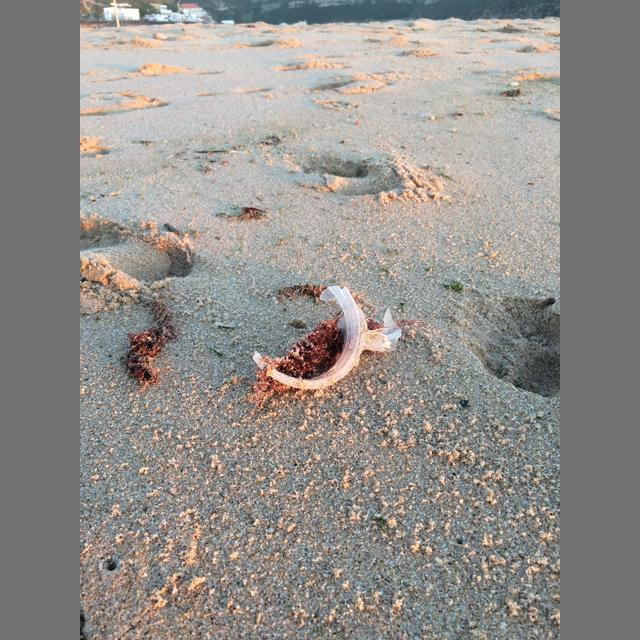litter: (253, 285, 402, 389)
